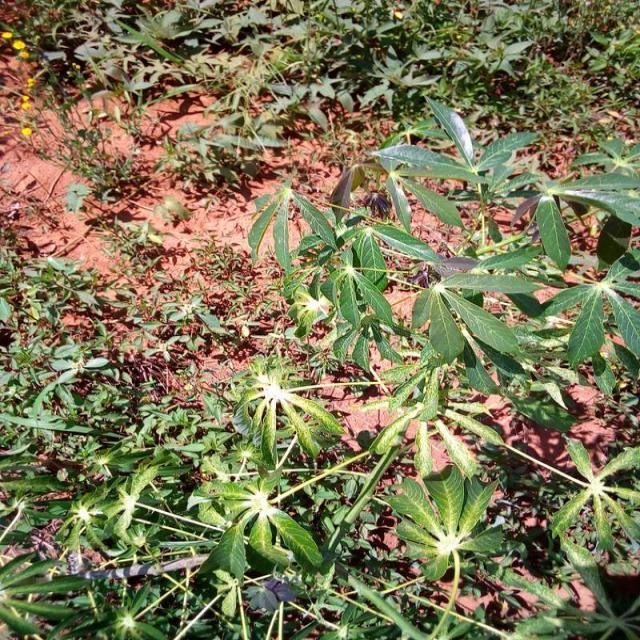cassava leaf: (424, 93, 476, 168)
